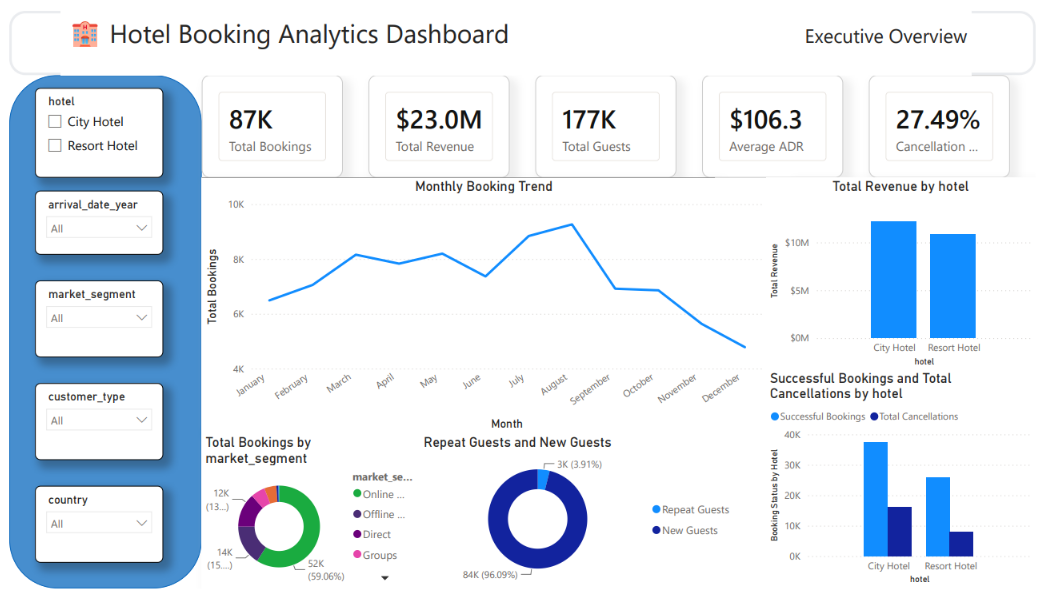

This screenshot's page, from the dashboard's own definition file:
{"tool":"powerbi","page":{"name":"Executive overview","canvas":[1280,720],"ordinal":0},"visuals":[{"type":"shape","box":[0,80,240,640],"z":0},{"type":"shape","box":[0,0,1280,80],"z":1000},{"type":"cardVisual","fields":{"Data":["Measure.Total Bookings"]},"box":[240,80,176,128],"z":2000},{"type":"cardVisual","fields":{"Data":["Measure.Average ADR"]},"box":[864,80,176,128],"z":3000},{"type":"cardVisual","fields":{"Data":["Measure.Total Guests"]},"box":[656,80,176,128],"z":4000},{"type":"cardVisual","fields":{"Data":["Measure.Total Revenue"]},"box":[448,80,176,128],"z":5000},{"type":"cardVisual","fields":{"Data":["Measure.Cancellation Rate"]},"box":[1072,80,176,128],"z":6000},{"type":"shape","box":[240,208,640,304],"z":7000},{"type":"shape","box":[976,208,304,240],"z":8000},{"type":"shape","box":[976,464,304,240],"z":9000},{"type":"shape","box":[240,528,272,192],"z":10000},{"type":"textbox","box":[64,0,1136,80],"z":11000},{"type":"lineChart","title":"Monthly Booking Trend","fields":{"Y":["Measure.Total Bookings"],"Category":["Calendar.Month"]},"box":[240,208,704,320],"z":11001},{"type":"columnChart","fields":{"Category":["hotel_bookings.hotel"],"Y":["Measure.Total Revenue"]},"box":[944,208,336,240],"z":11002},{"type":"donutChart","fields":{"Category":["hotel_bookings.market_segment"],"Y":["Measure.Total Bookings"]},"box":[240,528,272,192],"z":11003},{"type":"clusteredColumnChart","fields":{"Category":["hotel_bookings.hotel"],"Y":["Measure.Successful Bookings","Measure.Total Cancellations"]},"box":[944,448,336,272],"z":11004},{"type":"donutChart","fields":{"Y":["Measure.Repeat Guests","Measure.New Guests"]},"box":[512,528,400,192],"z":11005},{"type":"slicer","fields":{"Values":["hotel_bookings.hotel"]},"box":[32,96,160,112],"z":11006},{"type":"slicer","fields":{"Values":["hotel_bookings.customer_type"]},"box":[32,464,160,96],"z":11007},{"type":"slicer","fields":{"Values":["hotel_bookings.market_segment"]},"box":[32,336,160,96],"z":11008},{"type":"slicer","fields":{"Values":["hotel_bookings.arrival_date_year"]},"box":[32,224,160,80],"z":11009},{"type":"slicer","fields":{"Values":["hotel_bookings.country"]},"box":[32,592,160,96],"z":11010}]}

Visuals, with their boxes in screenshot pixels (x1, y1, x2, y2), scaled from the page's 1280x720 canvas onto the 1046x598 screenshot:
shape: (x1=0, y1=66, x2=196, y2=597)
shape: (x1=0, y1=0, x2=1045, y2=66)
cardVisual - Measure.Total Bookings: (x1=196, y1=66, x2=340, y2=173)
cardVisual - Measure.Average ADR: (x1=706, y1=66, x2=850, y2=173)
cardVisual - Measure.Total Guests: (x1=536, y1=66, x2=680, y2=173)
cardVisual - Measure.Total Revenue: (x1=366, y1=66, x2=510, y2=173)
cardVisual - Measure.Cancellation Rate: (x1=876, y1=66, x2=1020, y2=173)
shape: (x1=196, y1=173, x2=719, y2=425)
shape: (x1=798, y1=173, x2=1045, y2=372)
shape: (x1=798, y1=385, x2=1045, y2=585)
shape: (x1=196, y1=439, x2=418, y2=597)
textbox: (x1=52, y1=0, x2=981, y2=66)
"Monthly Booking Trend" lineChart: (x1=196, y1=173, x2=771, y2=439)
columnChart - hotel_bookings.hotel x Measure.Total Revenue: (x1=771, y1=173, x2=1045, y2=372)
donutChart - hotel_bookings.market_segment x Measure.Total Bookings: (x1=196, y1=439, x2=418, y2=597)
clusteredColumnChart - hotel_bookings.hotel x Measure.Successful Bookings: (x1=771, y1=372, x2=1045, y2=597)
donutChart - Measure.Repeat Guests x Measure.New Guests: (x1=418, y1=439, x2=745, y2=597)
slicer - hotel_bookings.hotel: (x1=26, y1=80, x2=157, y2=173)
slicer - hotel_bookings.customer_type: (x1=26, y1=385, x2=157, y2=465)
slicer - hotel_bookings.market_segment: (x1=26, y1=279, x2=157, y2=359)
slicer - hotel_bookings.arrival_date_year: (x1=26, y1=186, x2=157, y2=252)
slicer - hotel_bookings.country: (x1=26, y1=492, x2=157, y2=571)
